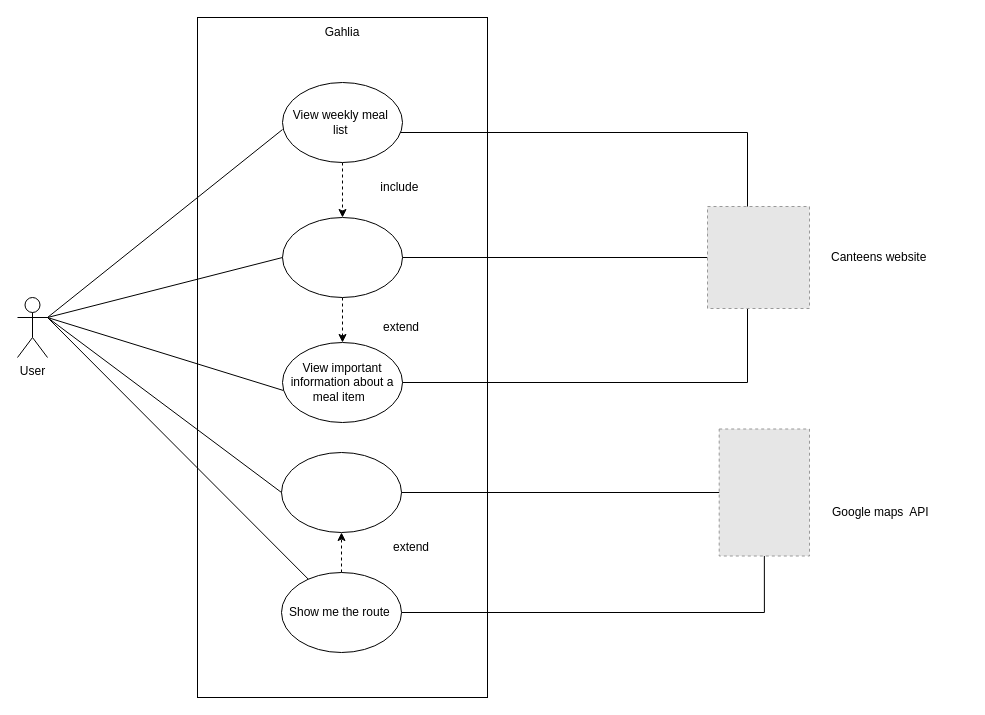
Some shapes in this 985 by 715 pixel diagram are drawn without their labels. Grey dashed boxes stand in for pictures. The shapes that lost their labels are listed below. From the top down, each one's centre as x and y in pixels, then its label:
At point (342, 257): "View daily meal list".
At point (341, 492): "show canteens location".
